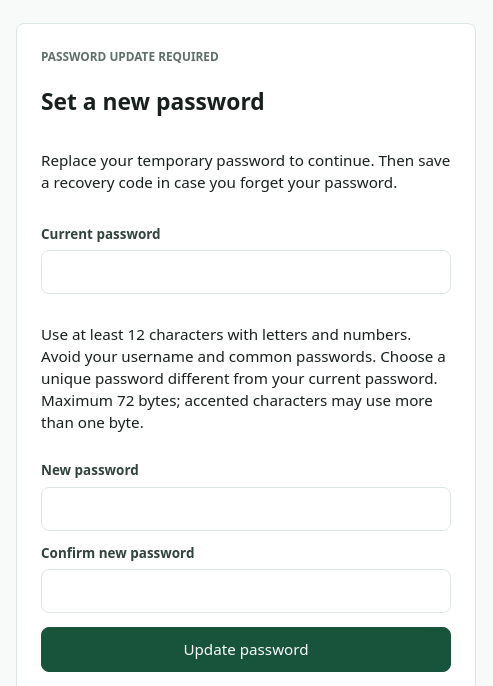
blocks password changes when confirmation differs
This screenshot has width=493, height=686.
Type "SyntheticOld123" into the password field labelled "Current password" at (246, 272), box [41,250,451,294]
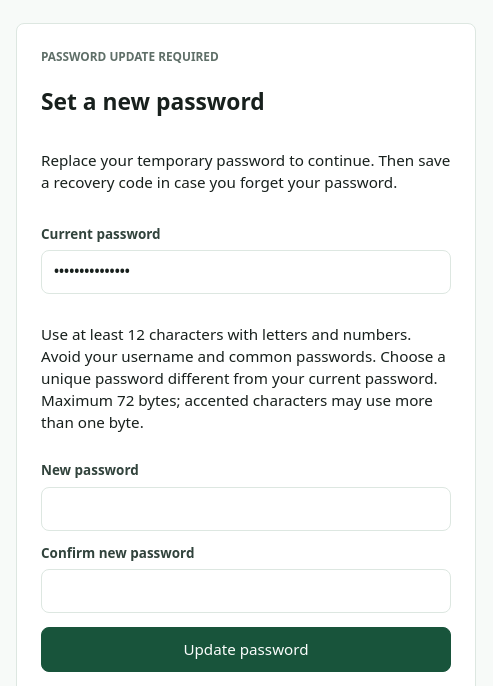
Type "SyntheticNew123" into the password field labelled "New password" at (246, 509), box [41,487,451,531]
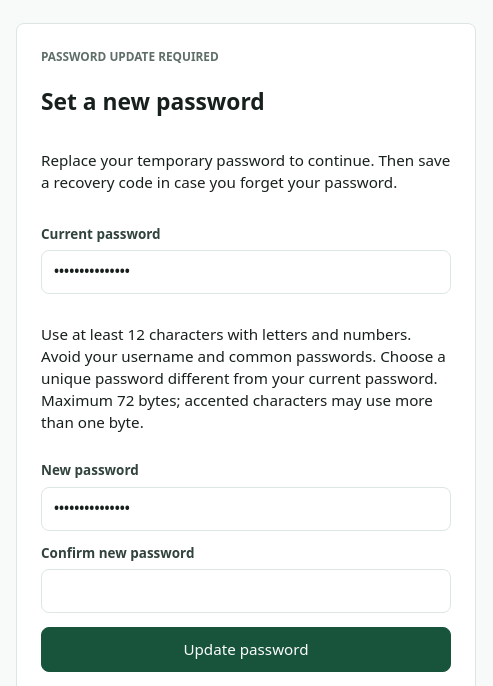
Type "DifferentNew123" into the password field labelled "Confirm new password" at (246, 591), box [41,569,451,613]
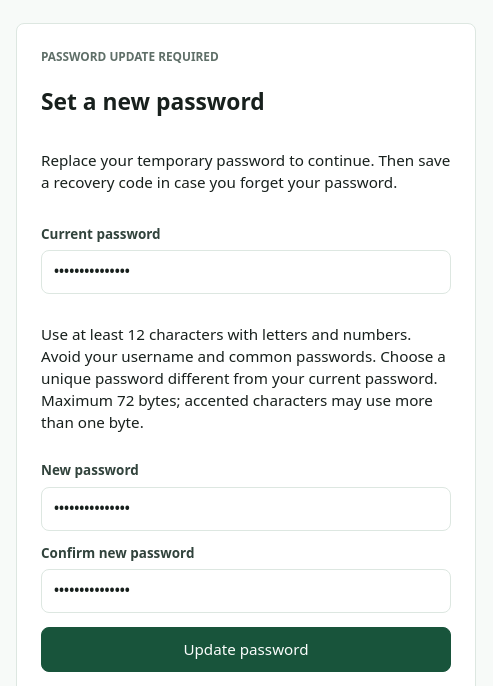
Note: submitting the change.
Click the button "Update password" at (246, 649), box [41,627,451,672]
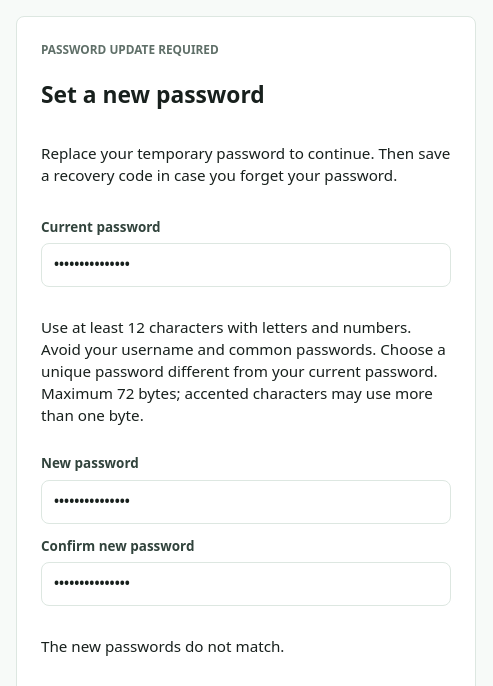
Now the message "The new passwords do not match." is shown, box [41,636,284,656]
